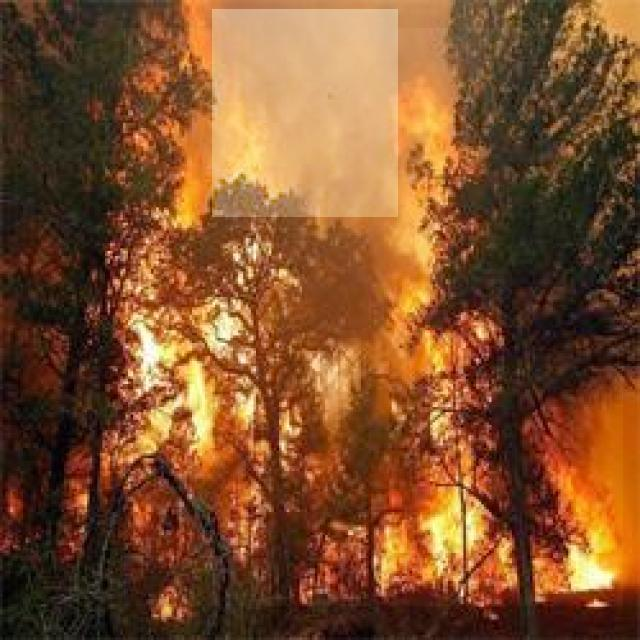Fire: (124, 28, 623, 606)
Smoke: (212, 9, 398, 217)
